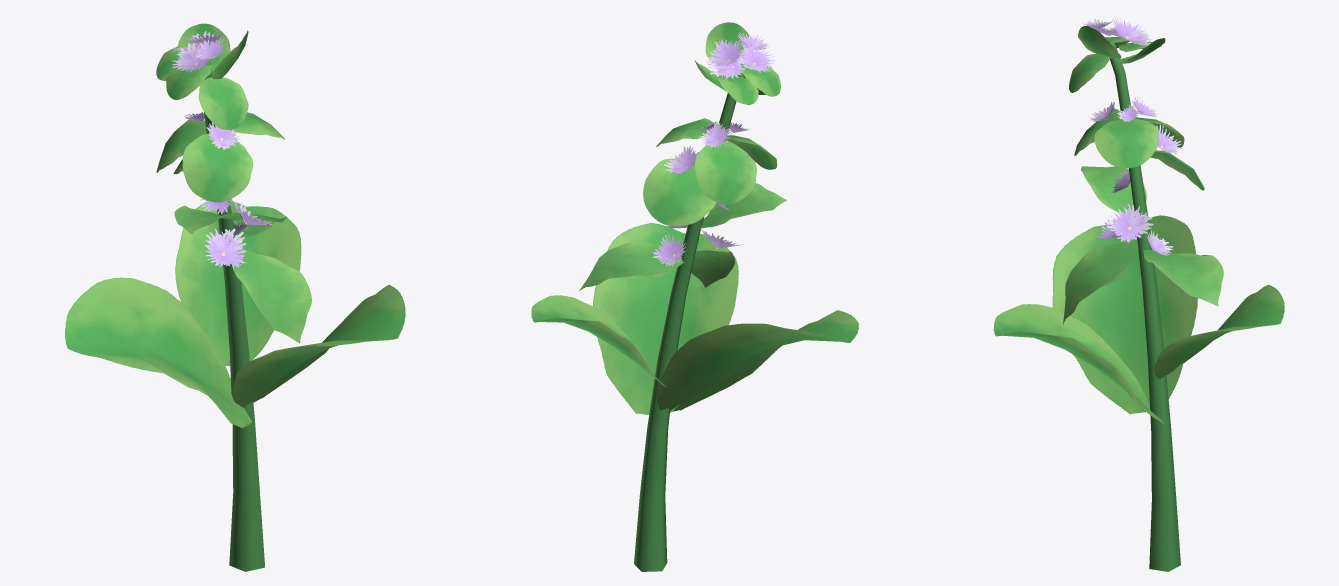
The model's file is SM_plant_flowers_01.fbx.
The picture shows the model from 3 angles, left to right: view 1: azimuth 30°, elevation 25°; view 2: azimuth 150°, elevation 25°; view 3: azimuth 270°, elevation 25°; orthographic projection. The views are drawn at different scales.
Visible parts, largest first — view 1: Object32321; view 2: Object32321; view 3: Object32321.
Part boxes in pixels (<box>): Object32321: <box>65,23,405,571</box>; Object32321: <box>531,22,858,571</box>; Object32321: <box>993,15,1284,571</box>.
Bounding box in the file's own units: 24.47 × 36.31 × 23.15.
